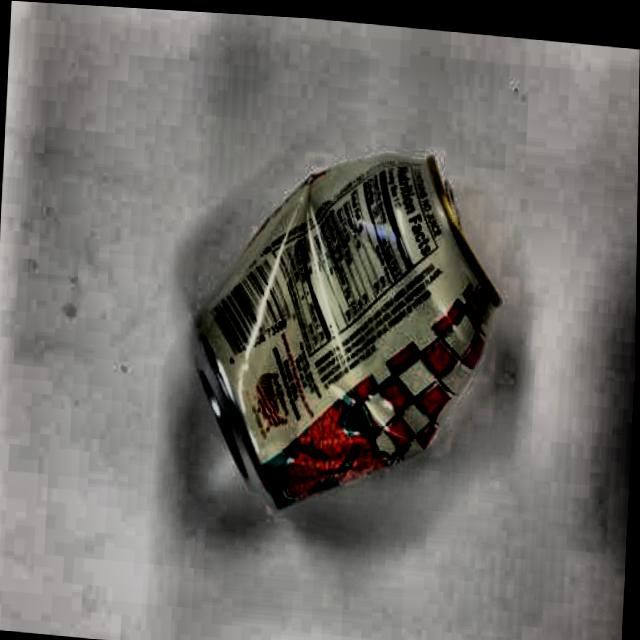Cans: (161, 111, 518, 538)
